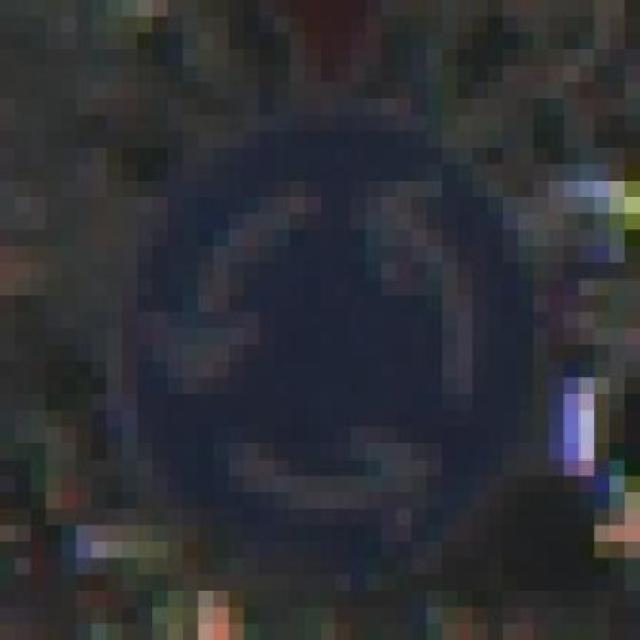Round-About: (122, 115, 549, 574)
